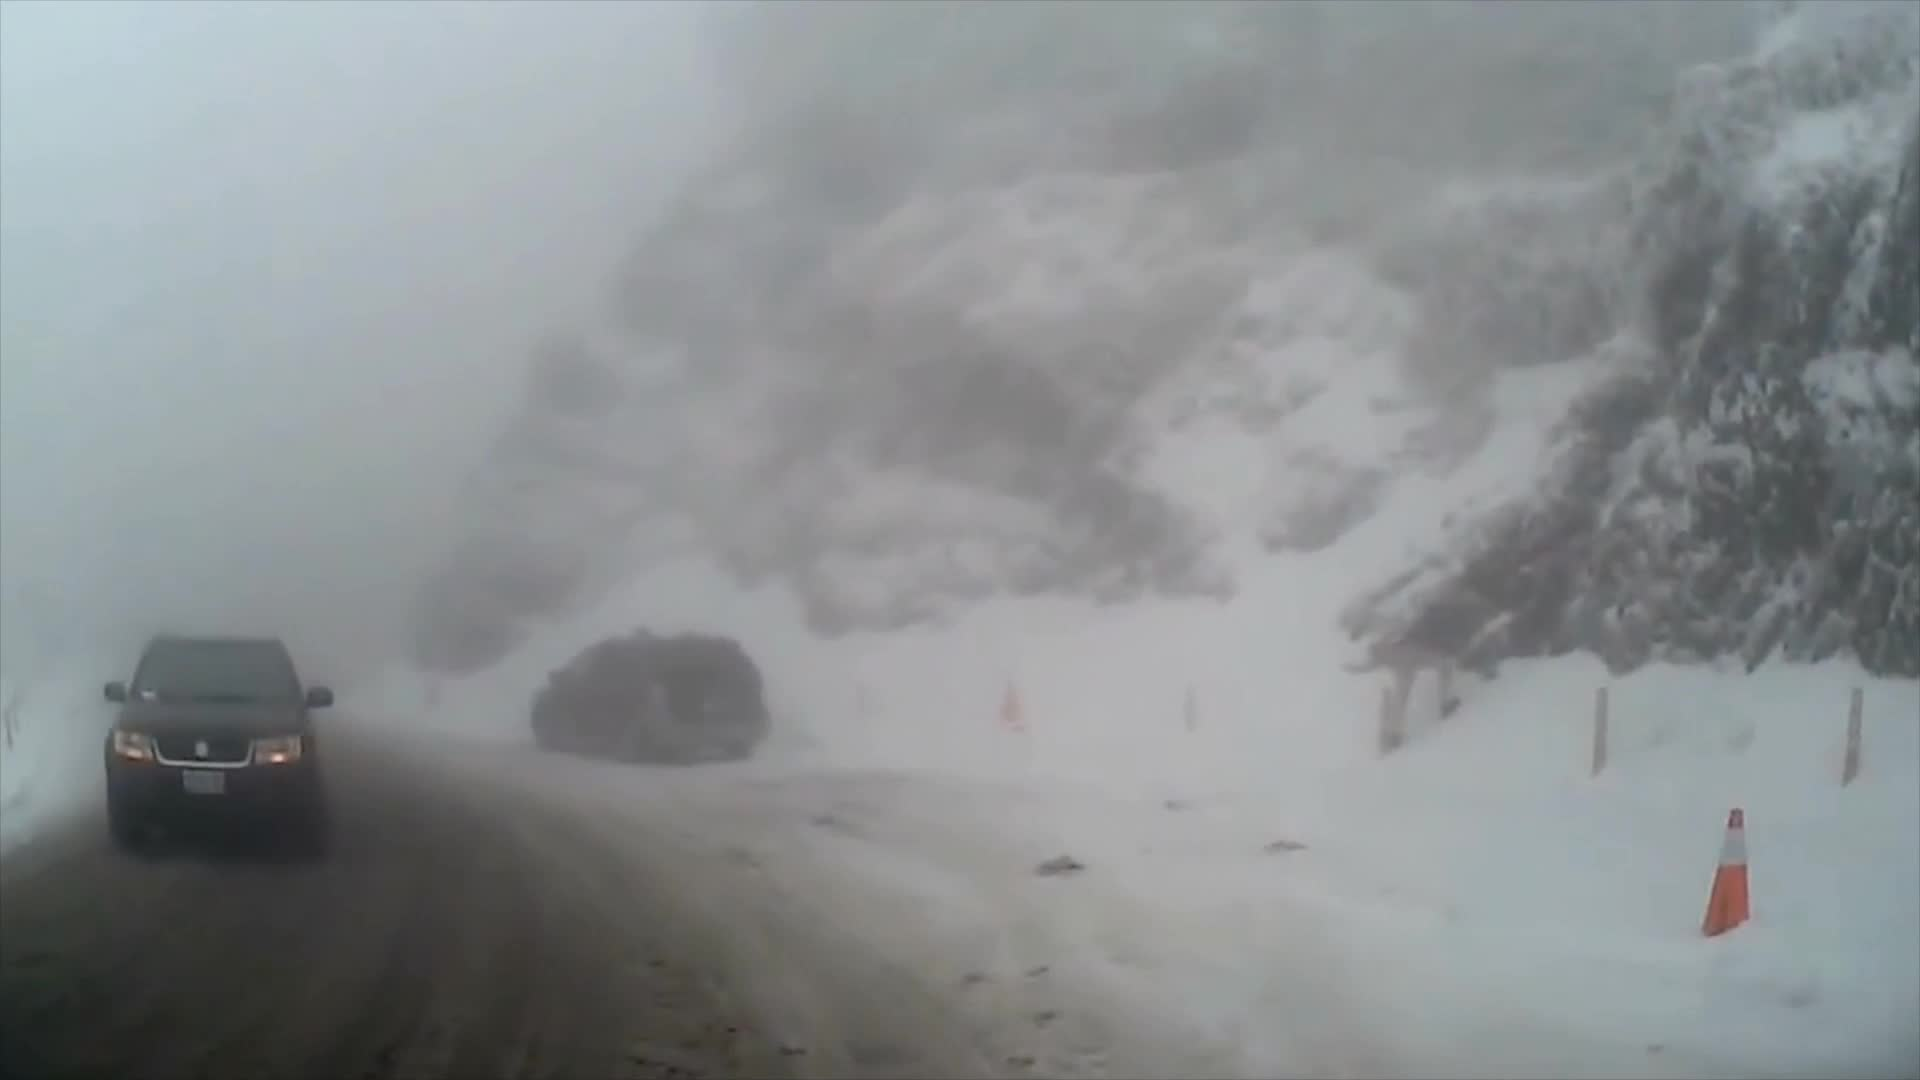vehicle: (94, 626, 332, 856), (527, 636, 765, 769)
